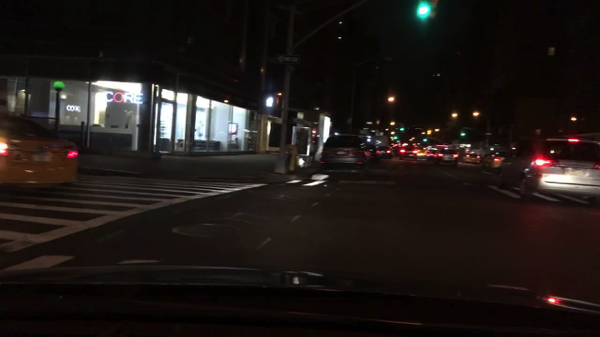car: (495, 135, 600, 201), (1, 111, 81, 190), (320, 133, 371, 180), (480, 149, 509, 176), (436, 147, 458, 164), (374, 145, 395, 161), (399, 145, 418, 161), (460, 151, 481, 164), (425, 147, 442, 162), (364, 143, 379, 160), (417, 146, 428, 159)
traffic light: (416, 0, 440, 21), (273, 92, 284, 108), (459, 131, 466, 137), (422, 137, 428, 143), (399, 127, 406, 132), (393, 135, 399, 140)
traffic sign: (277, 53, 301, 66)
